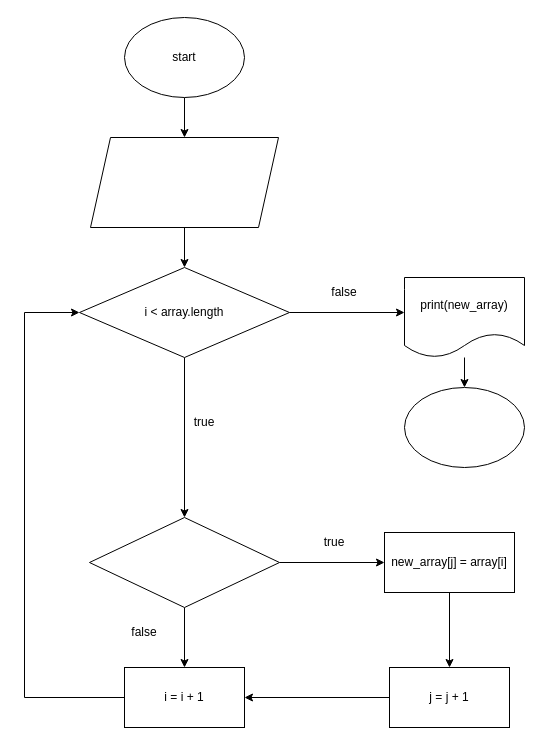
The diagram is 542 pixels wide and 745 high, and some of its shapes have lost their labels. The shapes that lost their labels are listed below. From the top down, each one's box as (x1, y1, x2, y2) in pixels, then its label:
(90, 136, 278, 228): string[] array string[] new_array amount = 3 i = 0 j = 0
(404, 386, 524, 468): finish
(88, 516, 280, 608): array[i].length <= amount
